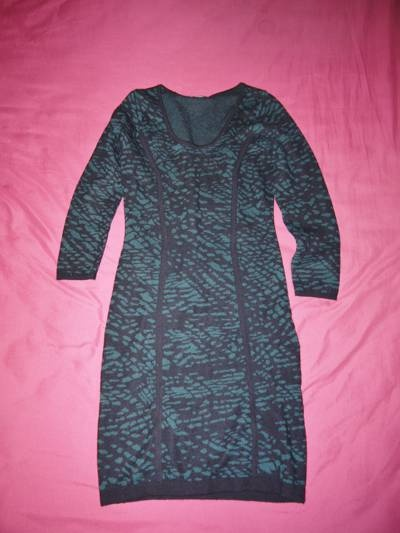Dress: (51, 72, 362, 514)
